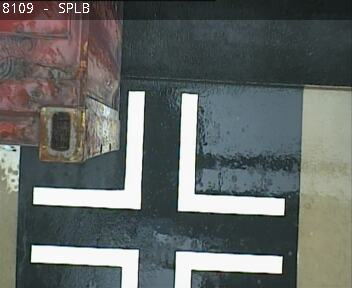groundmarker_1: (33, 90, 285, 214), (30, 243, 283, 288)
